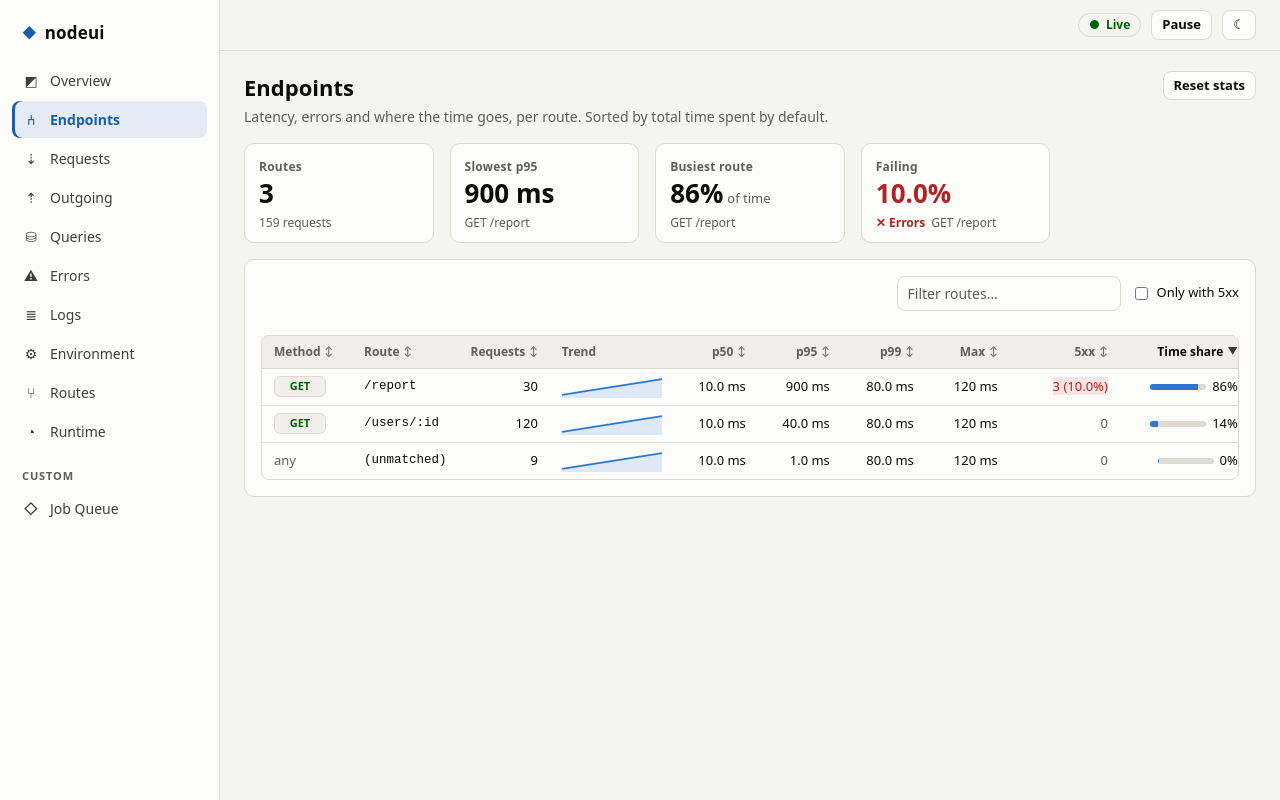
Endpoints view › filters by text and by routes with 5xx
Expected: the table named "Per-route performance" is shown, x1=262 y1=336 x2=1239 y2=478
In the search field labelled "Filter routes": (1009, 293) x1=897 y1=276 x2=1121 y2=310, type "users"
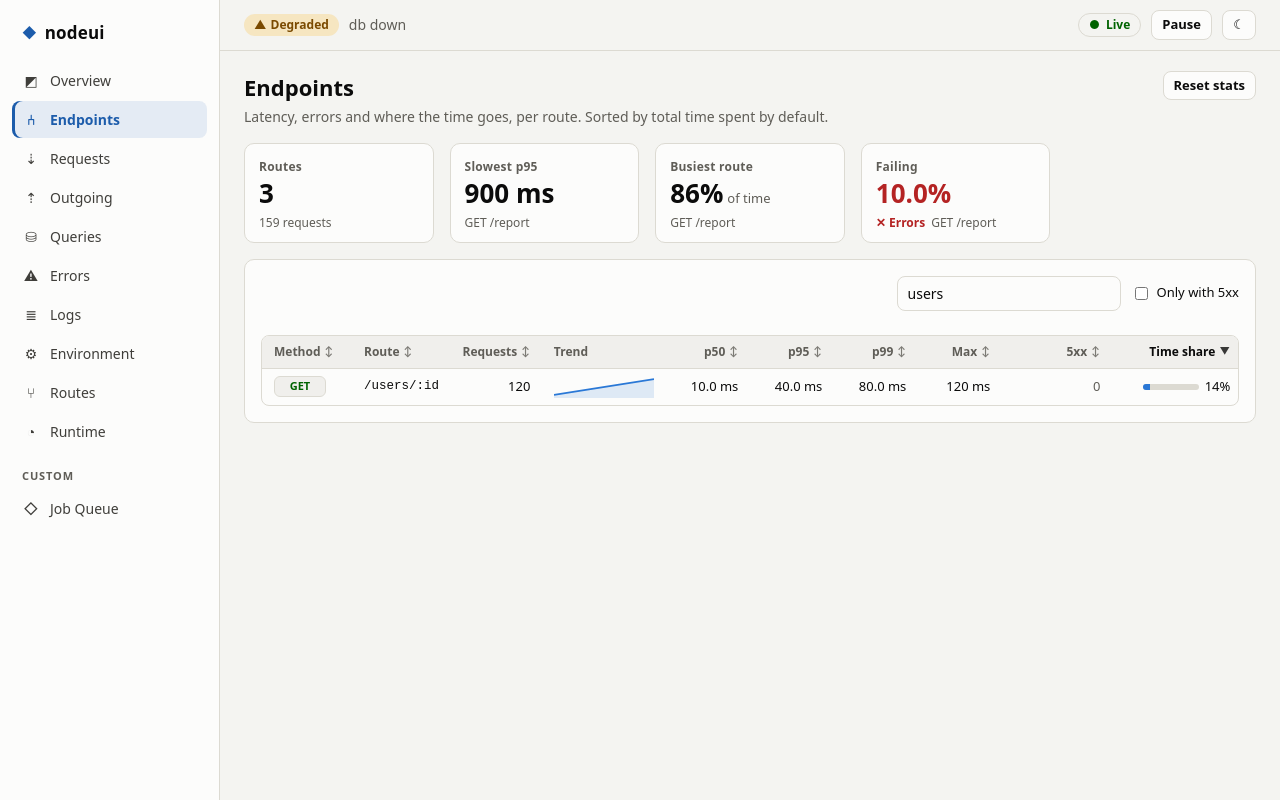
Clear the search field named "Filter routes": (1009, 293) x1=897 y1=276 x2=1121 y2=310
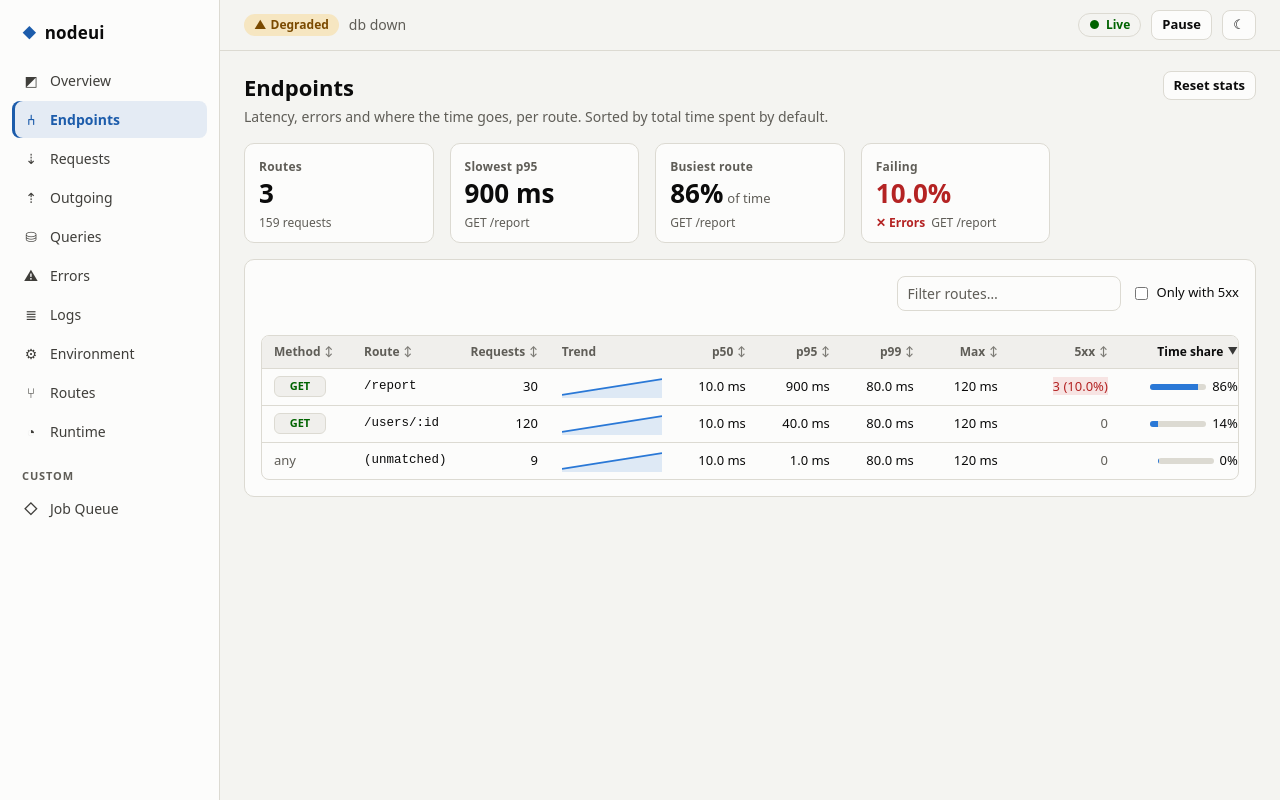
Click the checkbox labelled "Only with 5xx": (1141, 293) x1=1135 y1=286 x2=1148 y2=300
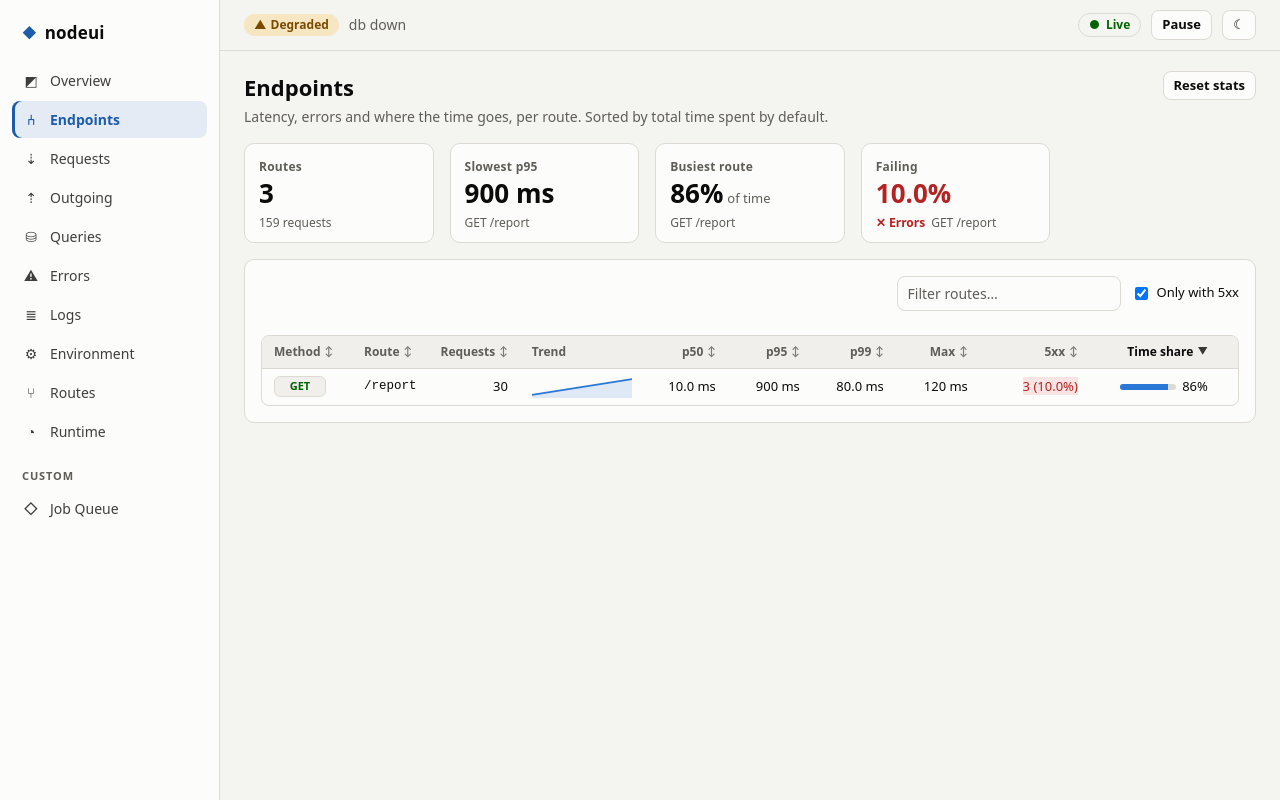
Expected: the text "/report" is shown, x1=352 y1=368 x2=428 y2=404
Expected: the text "/users/:id" is gone
